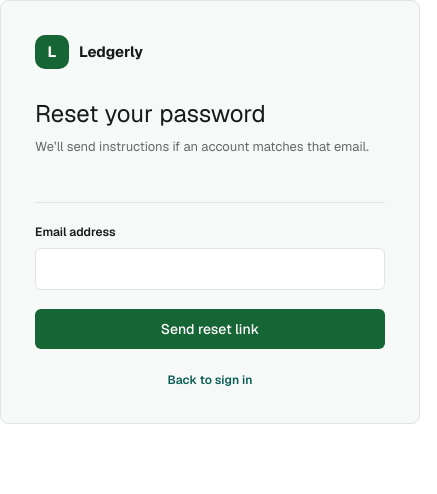
Test: authentication forms › requests password reset without exposing account existence
Type "ada@example.com" into the field labelled "Email address" at (210, 269), box [35, 248, 385, 290]
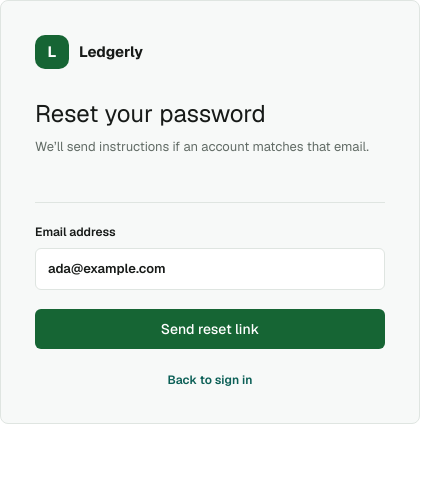
Click the button "Send reset link" at (210, 329), box [35, 309, 385, 349]
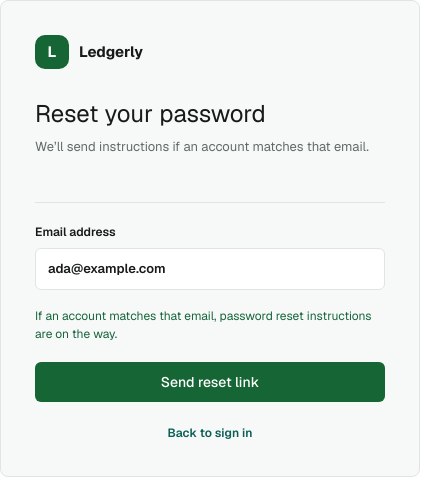
Check: the message reads "If an account matches that email, password reset instructions are on the way.", box [35, 308, 372, 342]
